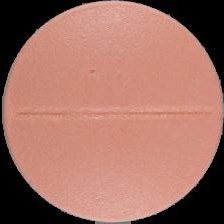0185-0771: (0, 0, 224, 224)
